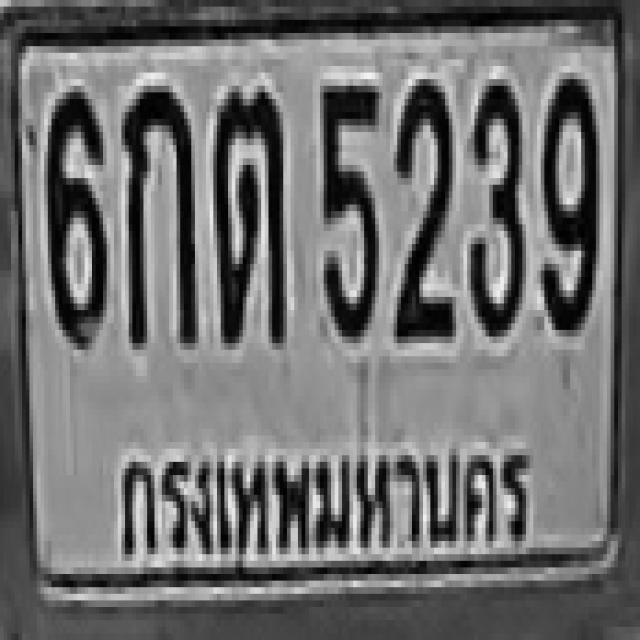10GorGai: (121, 82, 195, 340)
2: (393, 72, 452, 336)
3: (467, 72, 522, 330)
30TorTao: (214, 82, 284, 340)
5: (320, 79, 375, 337)
6: (44, 82, 103, 340)
9: (539, 72, 598, 330)
Bangkok: (103, 423, 541, 573)
